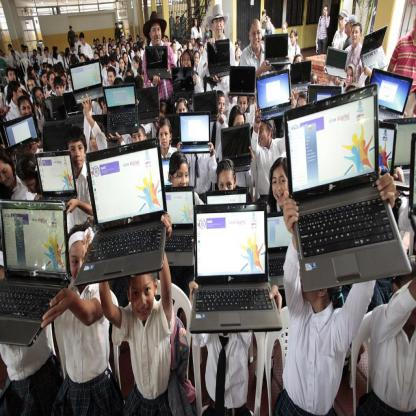board: (284, 90, 413, 305), (73, 136, 169, 287), (189, 204, 283, 334), (0, 200, 72, 346), (32, 154, 78, 211), (166, 186, 194, 267), (378, 121, 409, 189), (388, 116, 416, 189), (268, 211, 292, 293), (103, 86, 141, 136), (255, 70, 293, 119), (0, 113, 40, 155), (69, 59, 105, 104), (219, 125, 250, 171), (360, 24, 389, 70), (178, 112, 211, 152), (169, 65, 194, 106), (41, 97, 67, 136), (207, 36, 230, 78), (264, 31, 291, 66), (145, 47, 173, 79), (228, 64, 256, 96), (136, 86, 160, 122), (324, 44, 348, 80), (192, 91, 218, 122), (290, 57, 312, 93), (62, 94, 85, 128), (205, 187, 248, 205), (306, 84, 342, 105), (91, 115, 117, 143), (165, 113, 179, 149), (163, 154, 171, 190)
